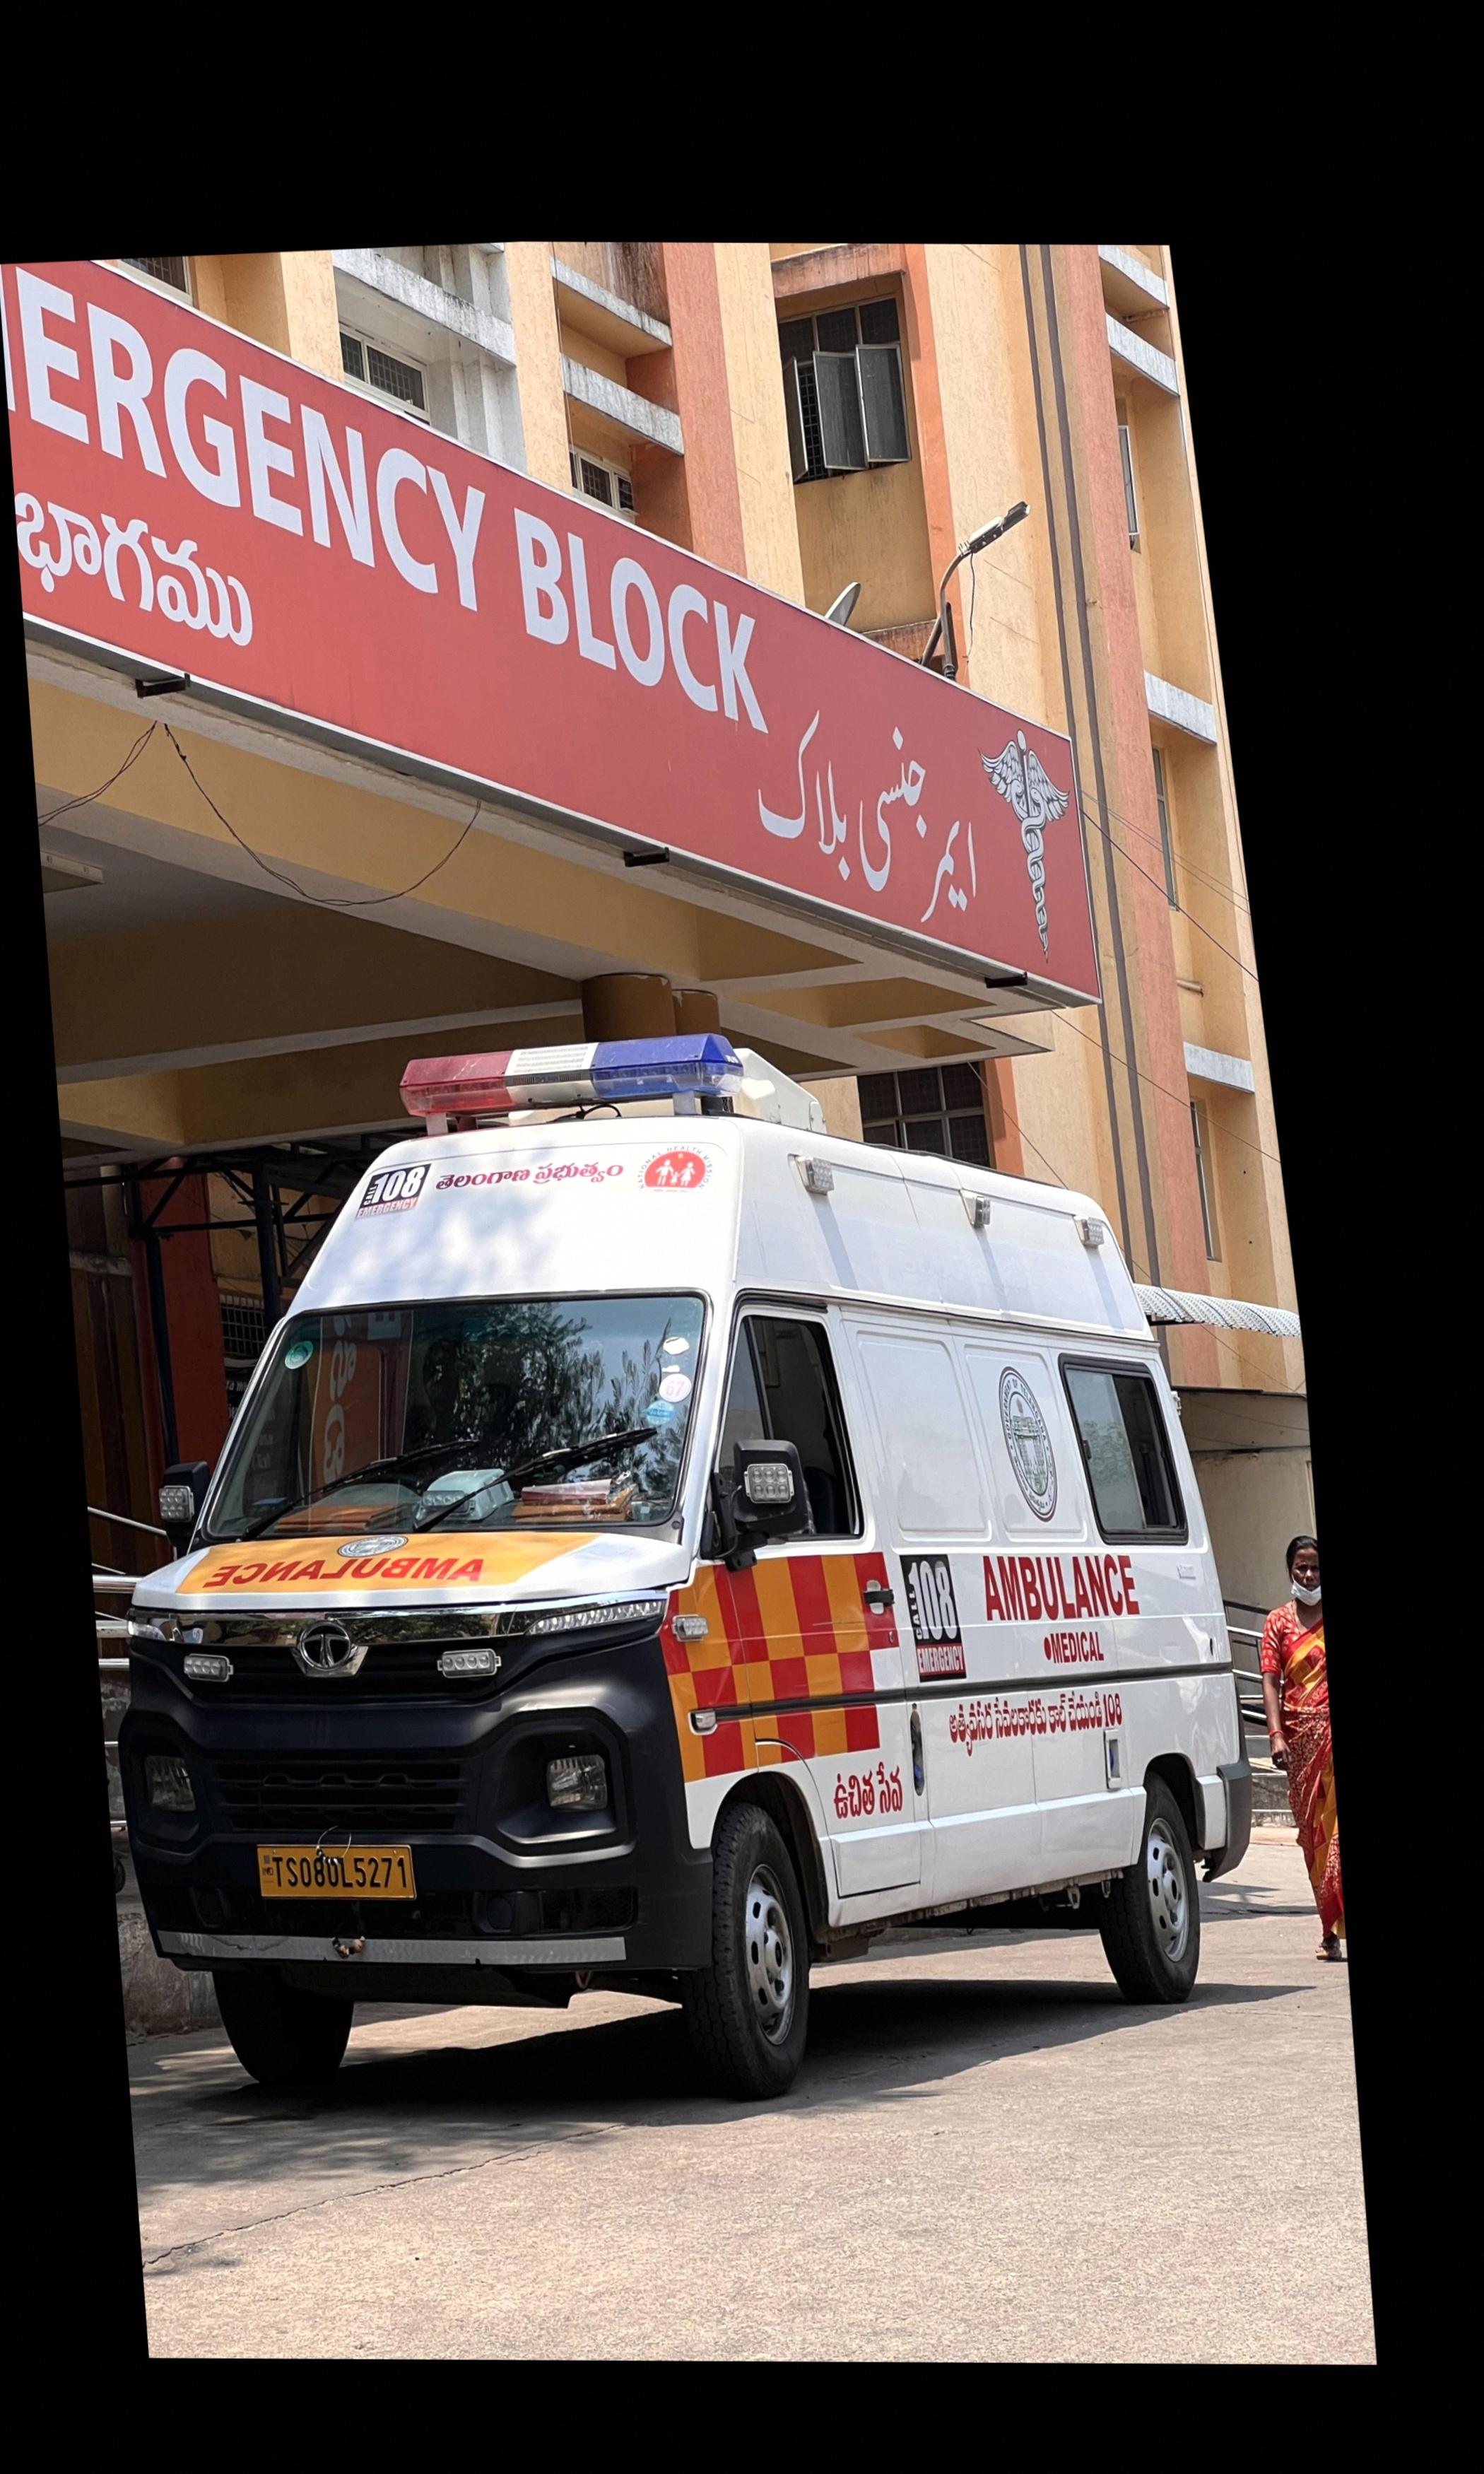ambulance: (111, 1057, 1249, 2106)
